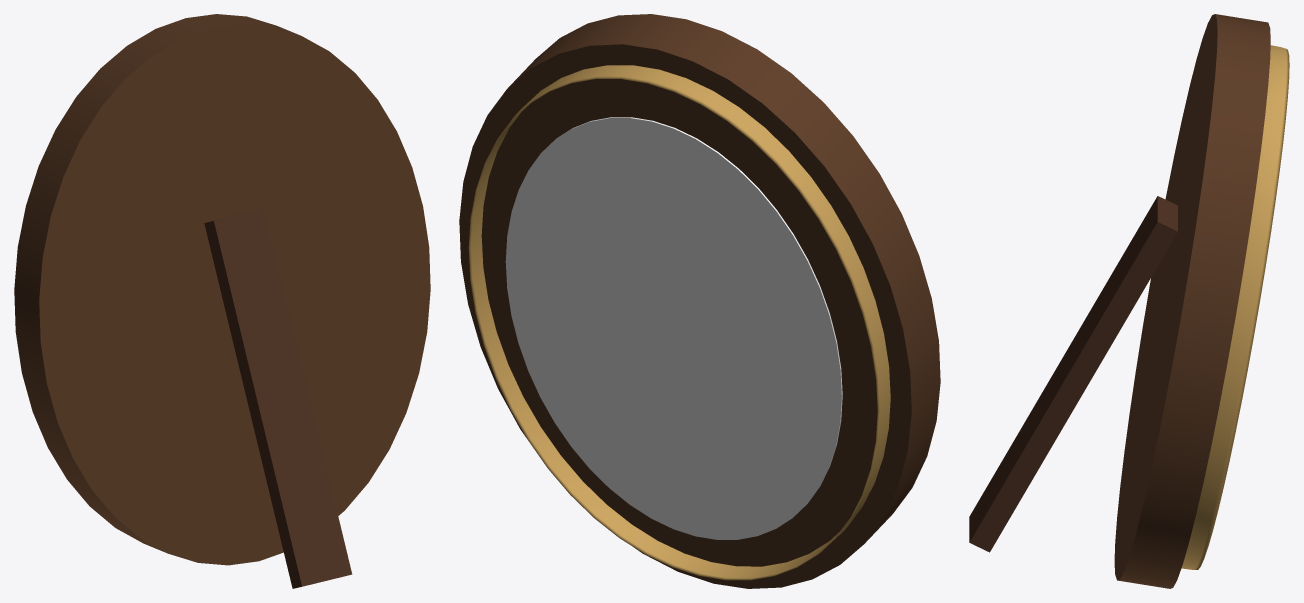
File: Frame_Oval.fbx
The picture shows the model from 3 angles, left to right: view 1: azimuth 30°, elevation 25°; view 2: azimuth 150°, elevation 25°; view 3: azimuth 270°, elevation 25°; orthographic projection. The views are drawn at different scales.
Parts seen in each view (by area): view 1: Frame_Oval; view 2: PHOTO, Frame_Oval; view 3: Frame_Oval.
Part boxes in pixels (bbox=[...]): Frame_Oval: bbox=[14, 14, 430, 588]; PHOTO: bbox=[505, 117, 842, 539]; Frame_Oval: bbox=[459, 14, 940, 588]; Frame_Oval: bbox=[969, 14, 1289, 588].
Size of the model in its own units: 0.124 by 0.1541 by 0.083.
